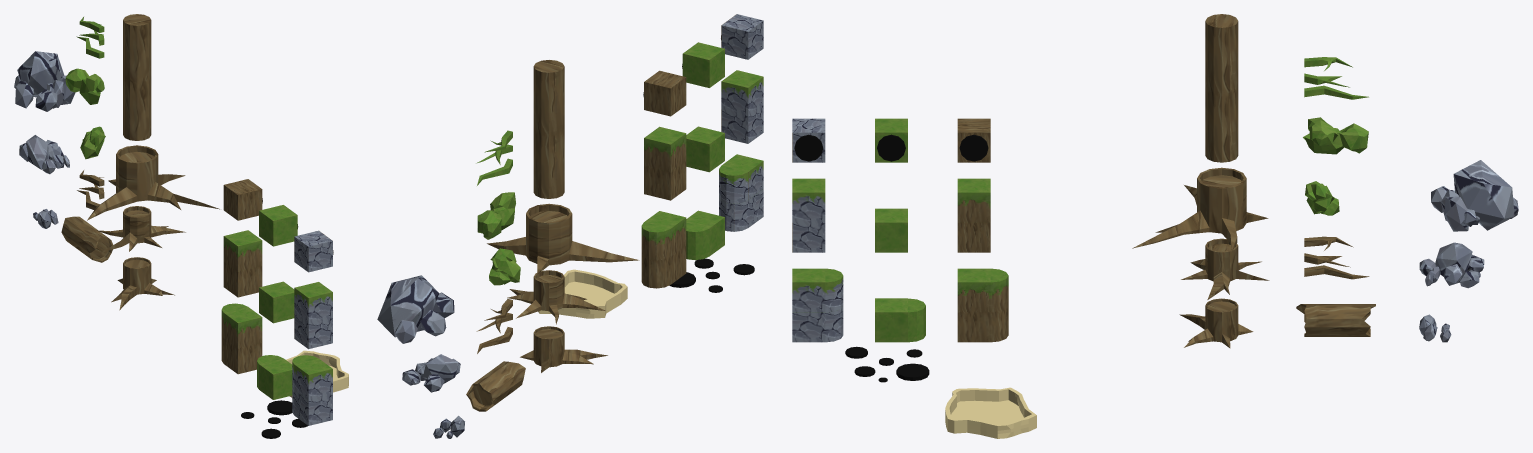
The model's file is GameJamEnviornmentTextured.fbx.
3 renders of one model, left to right at view 1: azimuth 30°, elevation 25°; view 2: azimuth 150°, elevation 25°; view 3: azimuth 270°, elevation 25°, orthographic. The views are drawn at different scales.
Parts seen in each view (by area): view 1: Cylinder.005, Stump1, Rocks3, Stump2, WoodToMossCorner, StoneToMossCorner, Cylinder.002, MossCorner, WoodToMossCube, Stump3, WoodCube.001, StoneToMossCube (+13 smaller); view 2: Cylinder.005, Stump1, Rocks3, WoodFloorSpawner.002, Stump2, WoodToMossCorner, StoneToMossCorner, Cylinder.002, Stump3, MossCorner, WoodCube.001, StoneToMossCube (+13 smaller); view 3: Cylinder.005, Stump1, Rocks3, WoodFloorSpawner.002, WoodToMossCorner, StoneToMossCorner, Cylinder.002, MossCorner, Stump2, Rocks2, Stump3, Bush2 (+12 smaller).
Part boxes in pixels (x1=…): Cylinder.005: x1=123, y1=14, x2=151, y2=140; Stump1: x1=87, y1=145, x2=219, y2=220; Rocks3: x1=14, y1=51, x2=75, y2=111; Stump2: x1=96, y1=206, x2=185, y2=253; WoodToMossCorner: x1=221, y1=303, x2=262, y2=348; StoneToMossCorner: x1=292, y1=355, x2=332, y2=400; Cylinder.002: x1=61, y1=216, x2=112, y2=262; MossCorner: x1=257, y1=355, x2=292, y2=399; WoodToMossCube: x1=223, y1=230, x2=262, y2=271; Stump3: x1=111, y1=257, x2=174, y2=310; WoodCube.001: x1=223, y1=179, x2=262, y2=220; StoneToMossCube: x1=294, y1=282, x2=332, y2=323; Cylinder.005: x1=533, y1=60, x2=564, y2=198; Stump1: x1=487, y1=203, x2=639, y2=274; Rocks3: x1=377, y1=275, x2=454, y2=343; WoodFloorSpawner.002: x1=538, y1=269, x2=627, y2=318; Stump2: x1=507, y1=270, x2=605, y2=324; WoodToMossCorner: x1=641, y1=211, x2=686, y2=260; StoneToMossCorner: x1=719, y1=154, x2=763, y2=203; Cylinder.002: x1=466, y1=361, x2=525, y2=411; Stump3: x1=520, y1=326, x2=607, y2=372; MossCorner: x1=686, y1=210, x2=724, y2=260; WoodCube.001: x1=644, y1=70, x2=686, y2=116; StoneToMossCube: x1=721, y1=70, x2=763, y2=115; Cylinder.005: x1=1205, y1=14, x2=1238, y2=162; Stump1: x1=1132, y1=167, x2=1268, y2=251; Rocks3: x1=1431, y1=160, x2=1518, y2=231; WoodFloorSpawner.002: x1=945, y1=387, x2=1036, y2=438; WoodToMossCorner: x1=957, y1=268, x2=1008, y2=312; StoneToMossCorner: x1=792, y1=268, x2=843, y2=312; Cylinder.002: x1=1296, y1=304, x2=1375, y2=336; MossCorner: x1=875, y1=298, x2=925, y2=342; Stump2: x1=1181, y1=238, x2=1269, y2=299; Rocks2: x1=1419, y1=242, x2=1484, y2=288; Stump3: x1=1179, y1=298, x2=1253, y2=348; Bush2: x1=1303, y1=117, x2=1368, y2=154.
Bounding box in the file's own units: 1421 × 2385 × 4397.
3 materials, 1 textured.
